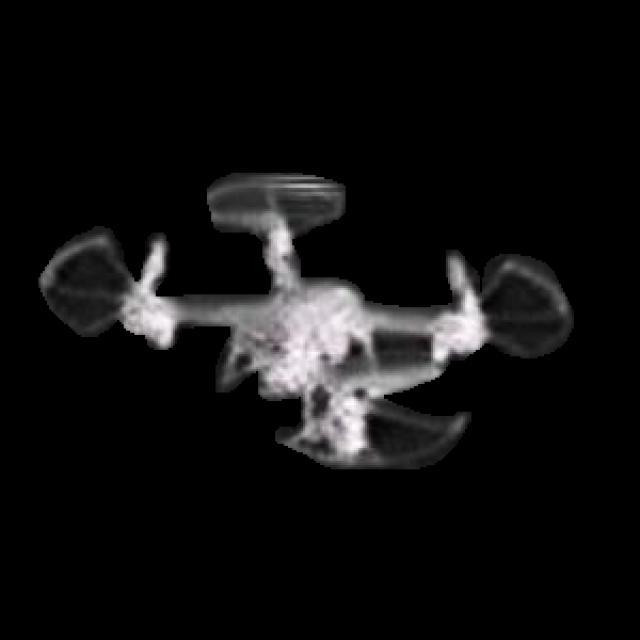drone: (39, 154, 576, 472)
